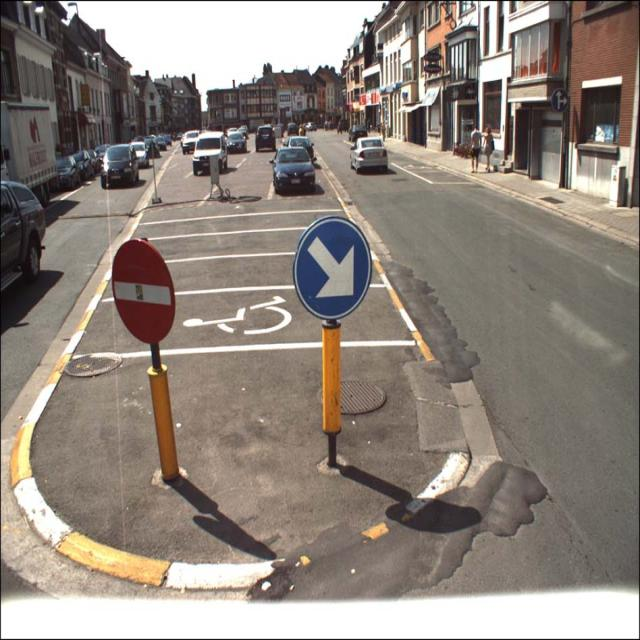girisyok: (110, 240, 177, 346)
ilerisag: (551, 88, 568, 113)
